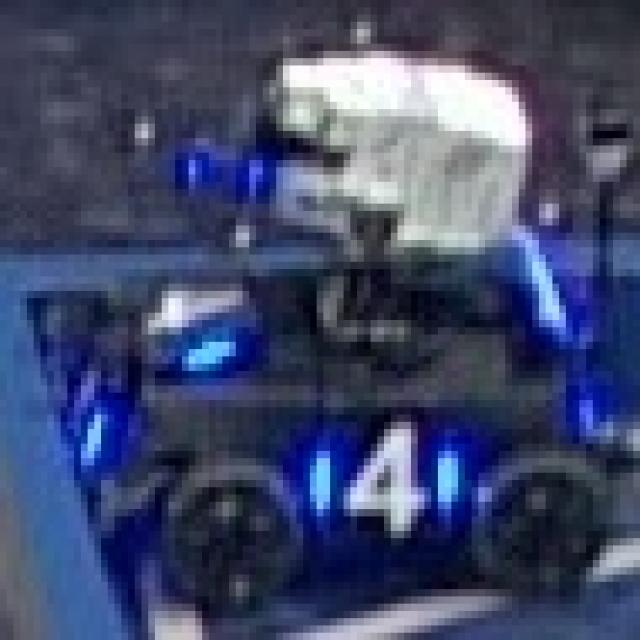B4: (303, 407, 465, 538)
